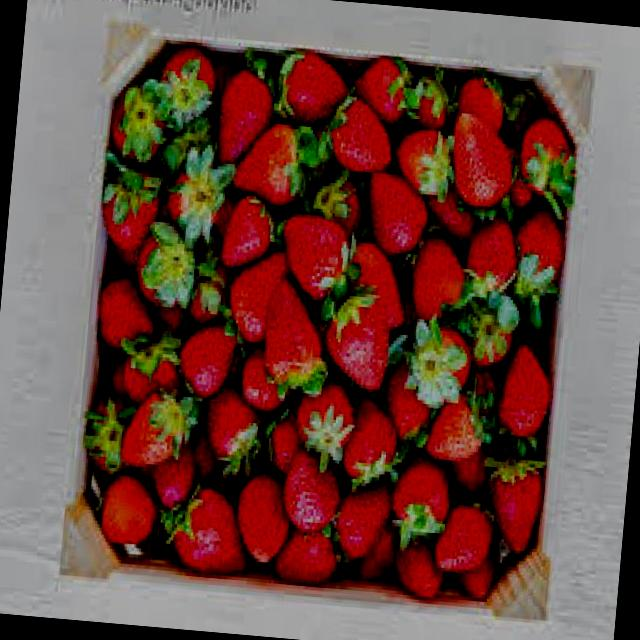Strawberry: (162, 482, 260, 576), (441, 110, 518, 216), (322, 288, 396, 395), (231, 117, 314, 207), (278, 212, 360, 302), (480, 452, 550, 556), (262, 278, 328, 388), (362, 171, 432, 264), (321, 92, 397, 176), (338, 392, 405, 487), (129, 220, 197, 310), (280, 446, 346, 538), (196, 382, 266, 466), (391, 449, 455, 534), (120, 388, 186, 470), (330, 479, 394, 562), (176, 317, 240, 398), (218, 190, 278, 270), (296, 377, 354, 450)
